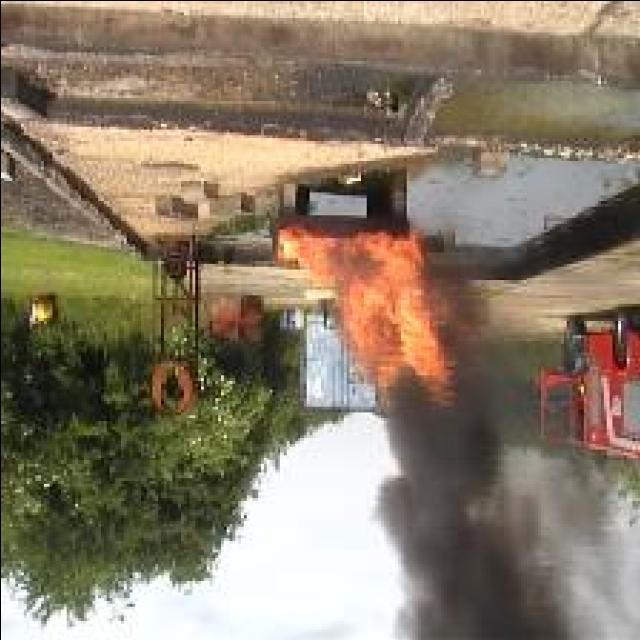Fire: (276, 224, 453, 407)
